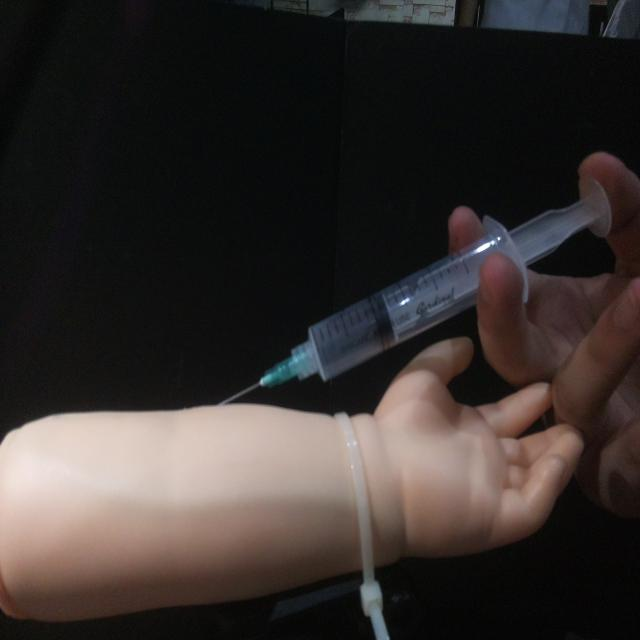19deg: (213, 174, 614, 408)
